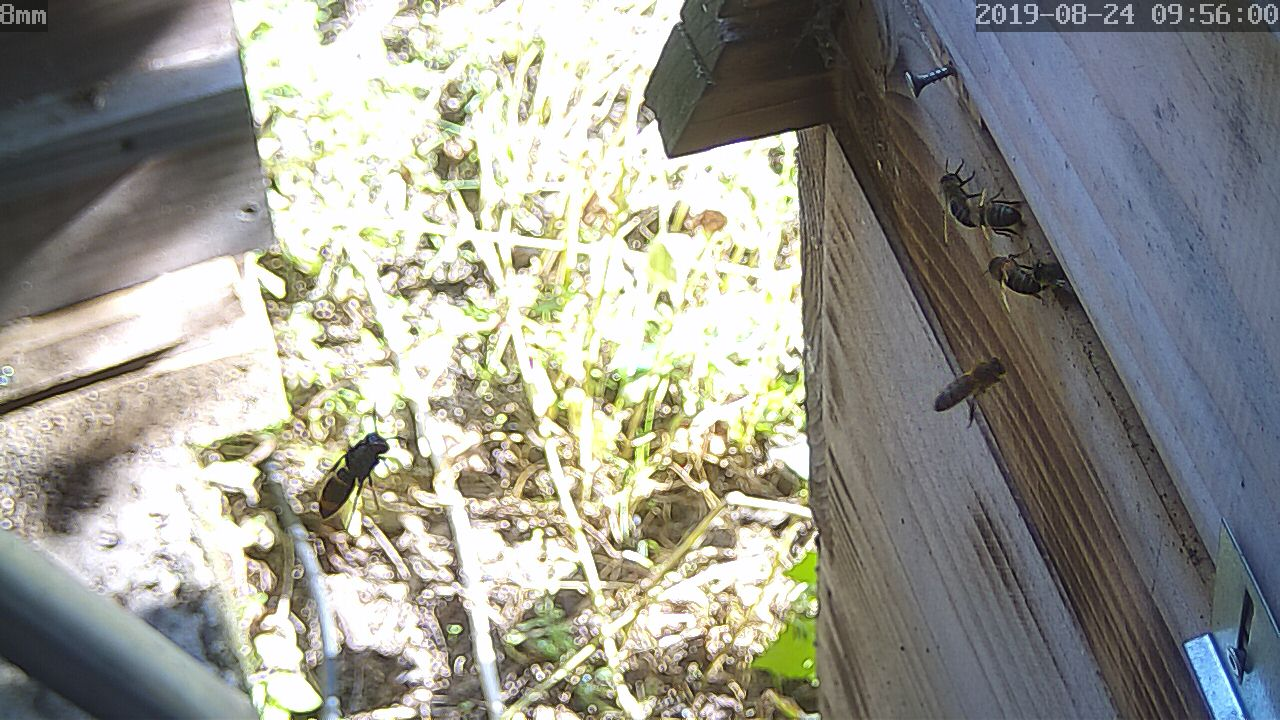bee: (933, 358, 1004, 428), (960, 178, 1027, 241), (981, 250, 1041, 311), (931, 160, 975, 239)
hornet: (306, 418, 402, 534)
